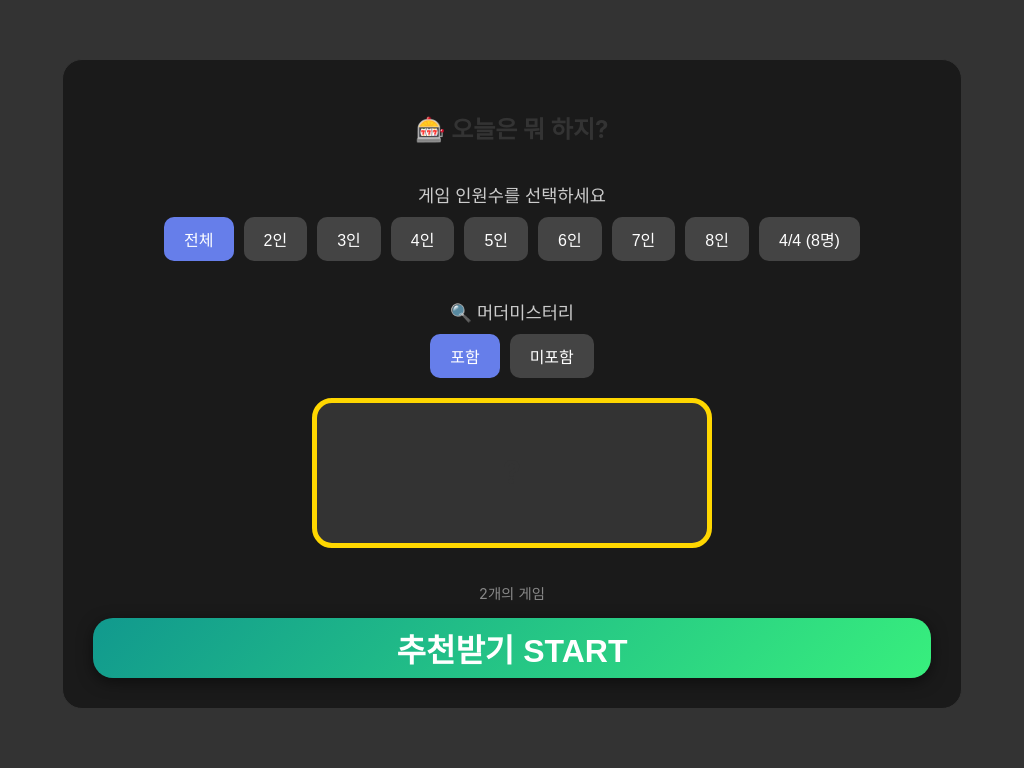
it: RouletteModal › without the new columns keeps the old uniform in-range draw
Click the button "4인" at (423, 239), box [391, 217, 454, 261]
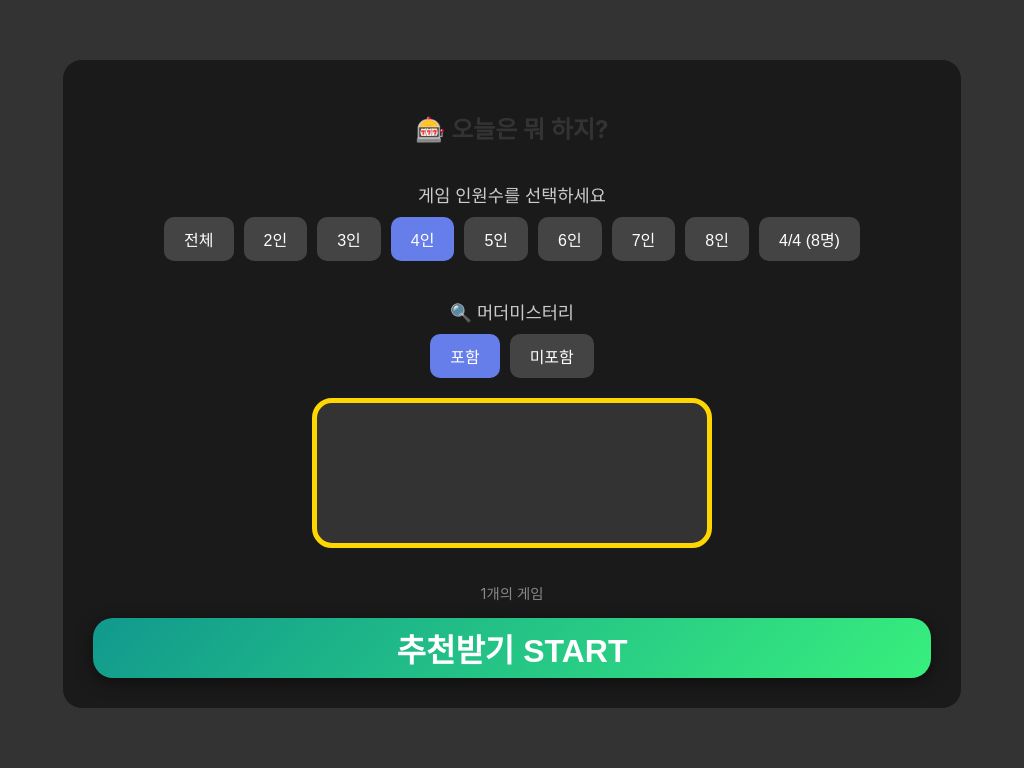
Expected: the text "1개의 게임" is shown, [481, 585, 544, 602]
